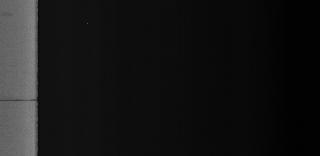scratches: (2, 95, 42, 107)
